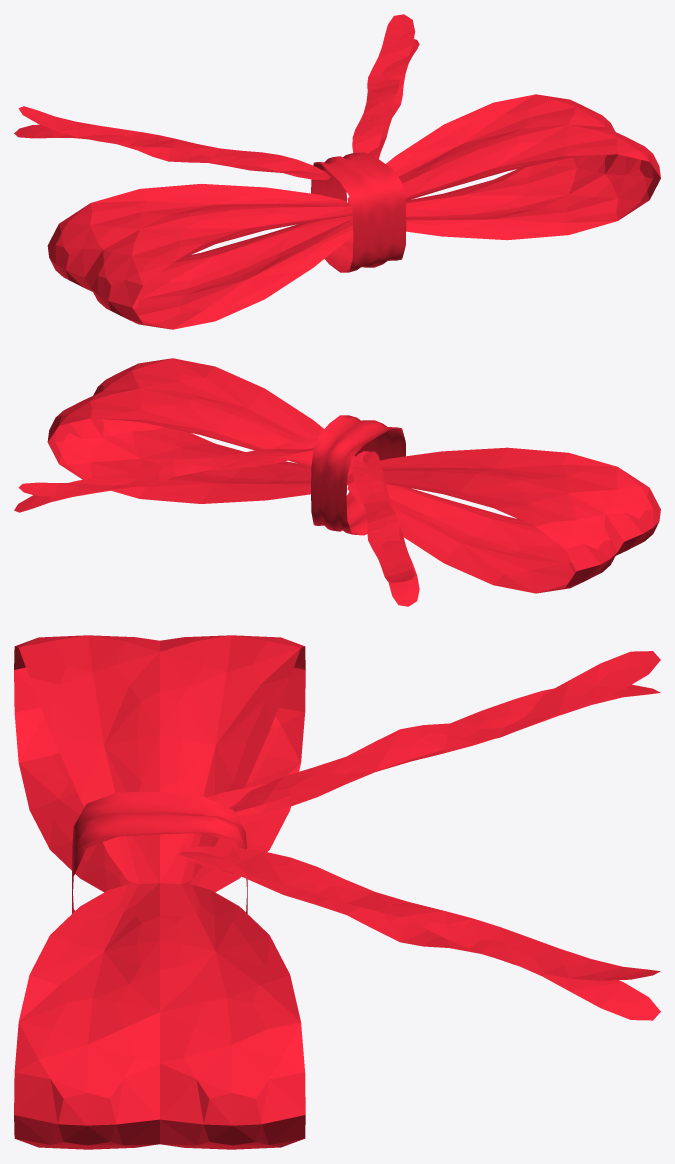
File: Ribbon.obj
3 renders of one model, top to bottom at view 1: azimuth 30°, elevation 25°; view 2: azimuth 150°, elevation 25°; view 3: azimuth 270°, elevation 25°, orthographic. The views are drawn at different scales.
Visible parts, largest first — view 1: 立方体.004; view 2: 立方体.004; view 3: 立方体.004.
Boxes of the visible parts, x1=… form: 立方体.004: x1=14, y1=14, x2=660, y2=329; 立方体.004: x1=14, y1=358, x2=660, y2=606; 立方体.004: x1=14, y1=635, x2=660, y2=1149.
Bounding box in the file's own units: 12.44 × 1.98 × 7.29.
1 material, 1 textured.
